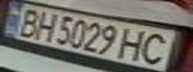0: (66, 17, 87, 50)
2: (81, 19, 103, 54)
5: (51, 15, 75, 46)
9: (96, 23, 124, 57)
B: (9, 6, 45, 37)
C: (136, 30, 178, 65)
H: (115, 26, 151, 62), (30, 10, 60, 43)
